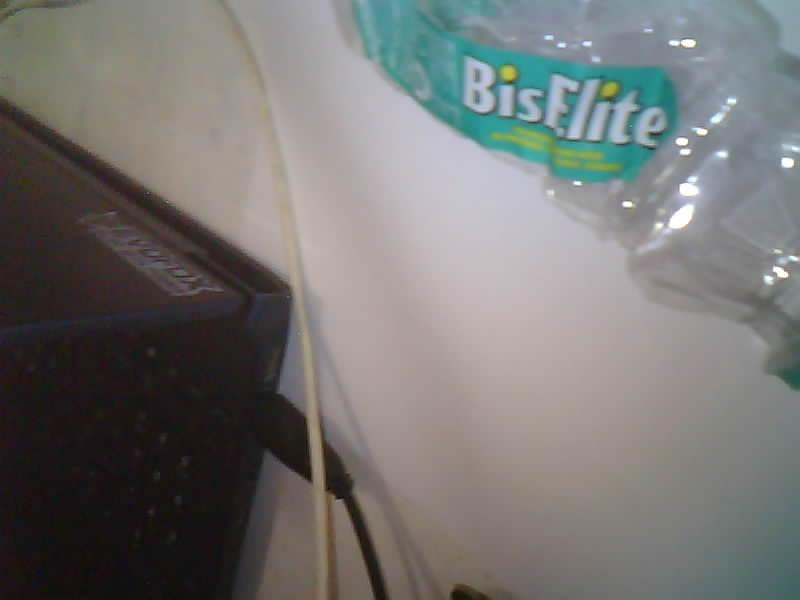non-biodegradable: (353, 0, 799, 384)
